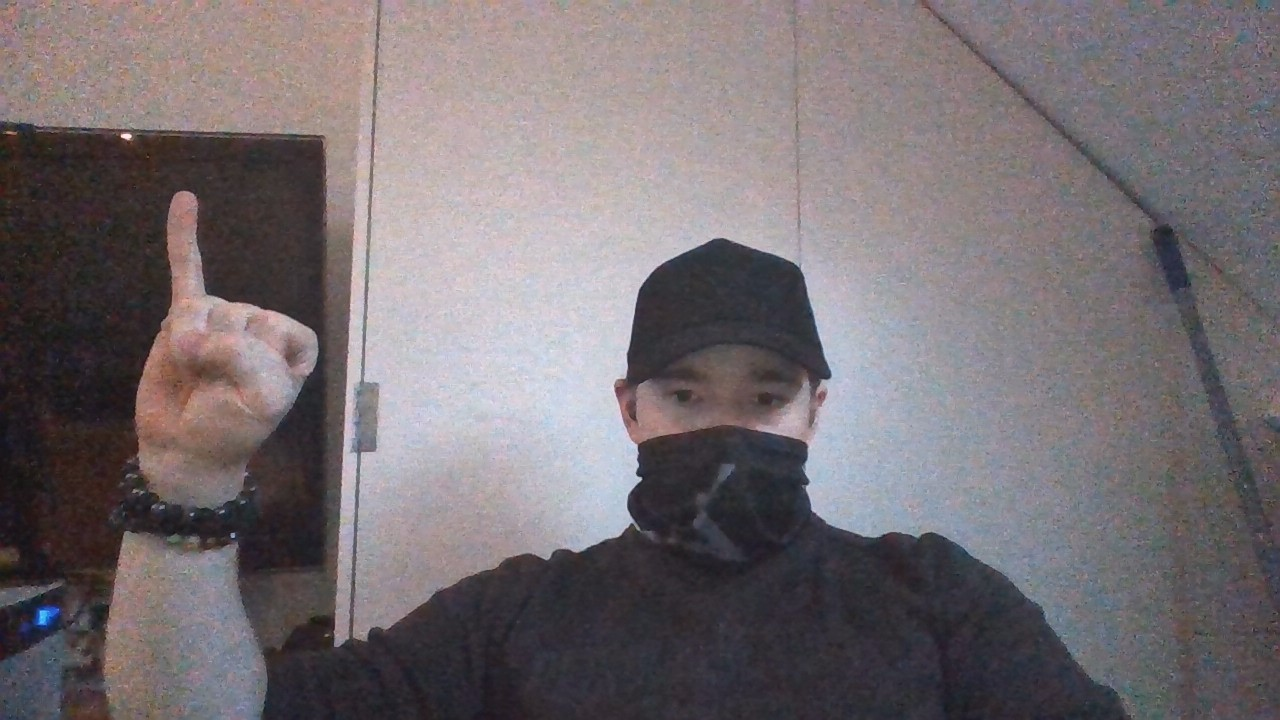I" Sign language: (116, 182, 326, 486)
